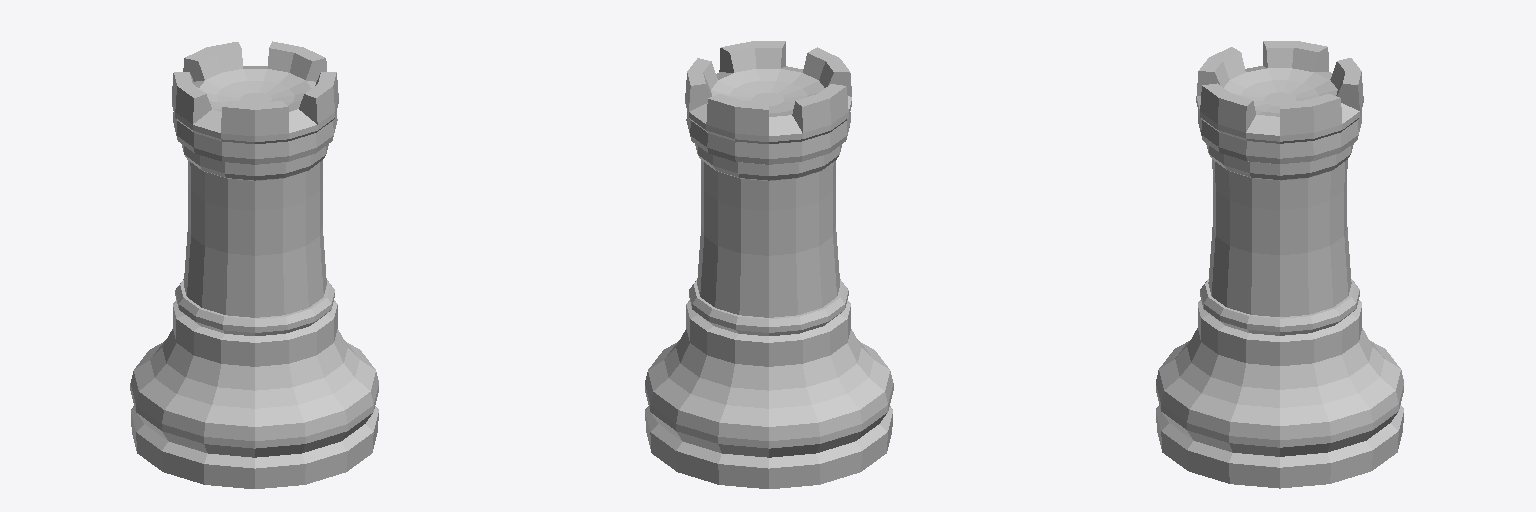
File: roook.obj
3 renders of one model, left to right at view 1: azimuth 30°, elevation 25°; view 2: azimuth 150°, elevation 25°; view 3: azimuth 270°, elevation 25°, orthographic.
Visible parts, largest first — view 1: pieces; view 2: pieces; view 3: pieces.
Part boxes in pixels (x1,y1,x2,y2): pieces: (130, 41, 378, 488); pieces: (645, 41, 893, 488); pieces: (1156, 41, 1403, 488).
Bounding box in the file's own units: 0.9982 × 1.61 × 1.